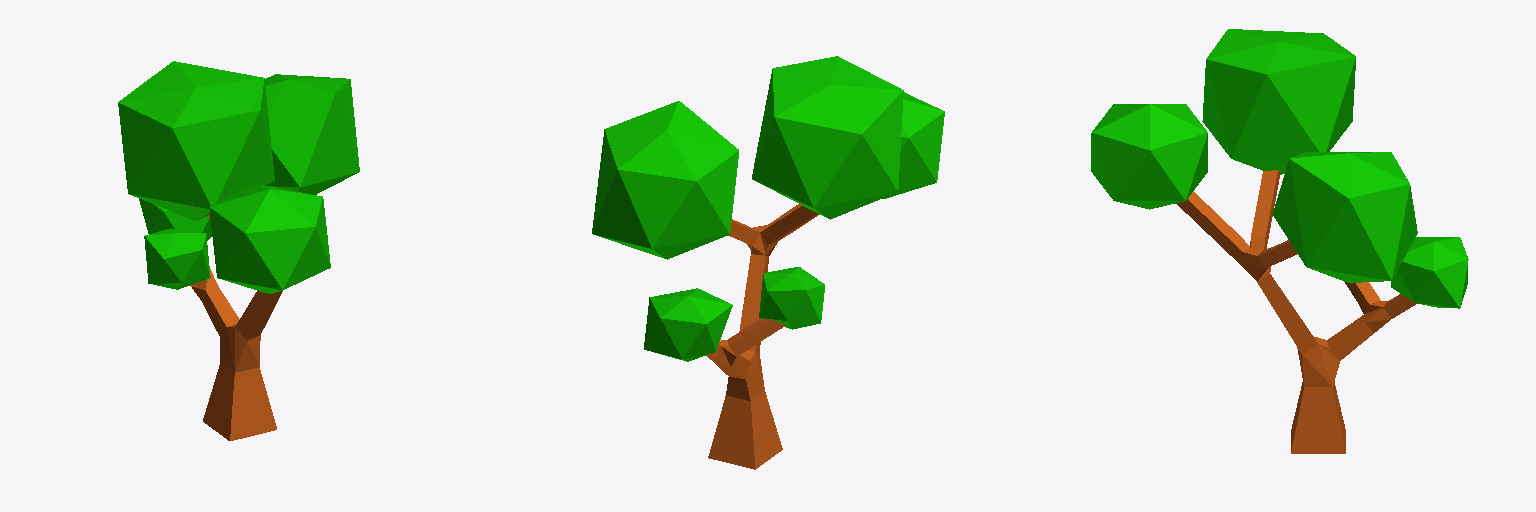
Rendered from dtree8C(F326).obj.
3 views of the same model, side by side, from view 1: azimuth 30°, elevation 25°; view 2: azimuth 150°, elevation 25°; view 3: azimuth 270°, elevation 25° (orthographic).
Visible parts, largest first — view 1: Icosphere.029, Icosphere.030, Icosphere.028, Cube.007, Icosphere.026, Icosphere.027; view 2: Icosphere.029, Icosphere.028, Cube.007, Icosphere.027, Icosphere.030, Icosphere.026; view 3: Icosphere.029, Icosphere.028, Cube.007, Icosphere.030, Icosphere.027.
Part boxes in pixels (bbox=[...]): Icosphere.029: bbox=[118, 61, 274, 221]; Icosphere.030: bbox=[209, 184, 330, 293]; Icosphere.028: bbox=[265, 74, 359, 194]; Cube.007: bbox=[190, 215, 282, 440]; Icosphere.026: bbox=[144, 228, 210, 289]; Icosphere.027: bbox=[139, 199, 211, 240]; Icosphere.029: bbox=[752, 56, 903, 219]; Icosphere.028: bbox=[592, 101, 738, 259]; Cube.007: bbox=[706, 204, 819, 469]; Icosphere.027: bbox=[644, 288, 732, 361]; Icosphere.030: bbox=[883, 92, 944, 198]; Icosphere.026: bbox=[759, 267, 824, 329]; Icosphere.029: bbox=[1202, 29, 1355, 174]; Icosphere.028: bbox=[1272, 152, 1417, 282]; Cube.007: bbox=[1176, 170, 1417, 453]; Icosphere.030: bbox=[1091, 104, 1207, 209]; Icosphere.027: bbox=[1391, 237, 1468, 308].
Bounding box in the file's own units: 1.42 × 1.94 × 1.8.